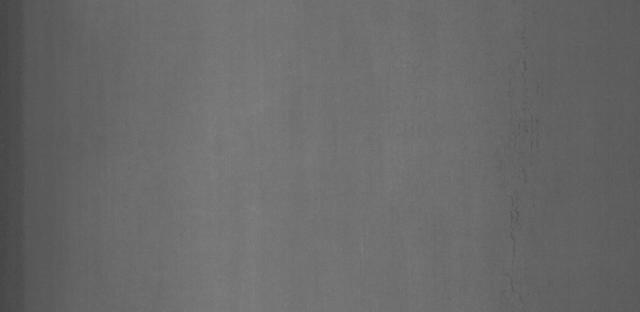silk_spot: (488, 50, 572, 204)
